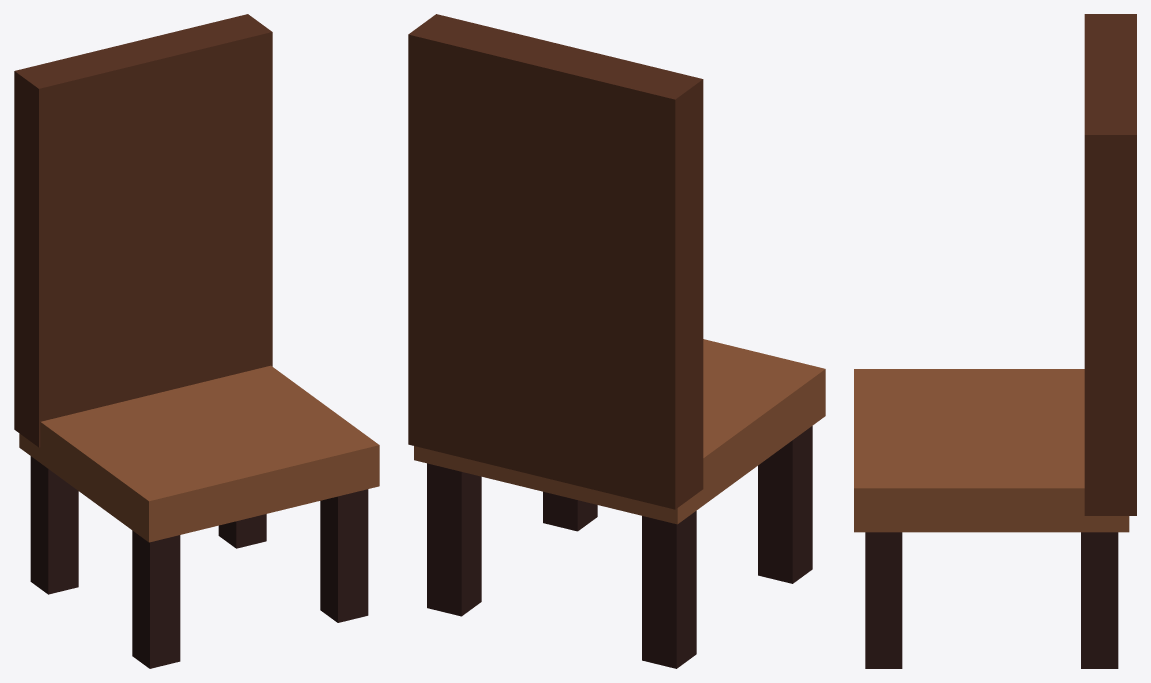
File: chair.obj
3 renders of one model, left to right at view 1: azimuth 30°, elevation 25°; view 2: azimuth 150°, elevation 25°; view 3: azimuth 270°, elevation 25°, orthographic. The views are drawn at different scales.
Visible parts, largest first — view 1: chair; view 2: chair; view 3: chair.
Part boxes in pixels (x1,y1,x2,y2): chair: [14, 14, 379, 668]; chair: [408, 14, 825, 668]; chair: [854, 14, 1136, 668].
Bounding box in the file's own units: 0.77 × 1.6 × 0.76.
